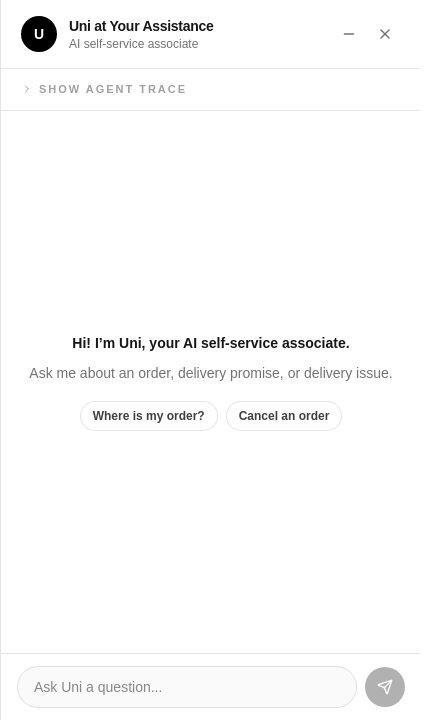
Test case: AssistantPanel agent trace › is collapsed by default and expands only when toggled
Expected: the text "Checking order and customer data" is not shown
What coordinates should you click on to do the following:
click the button "Show agent trace"
I would click on:
 (104, 89)
Its box is [21, 81, 187, 98].
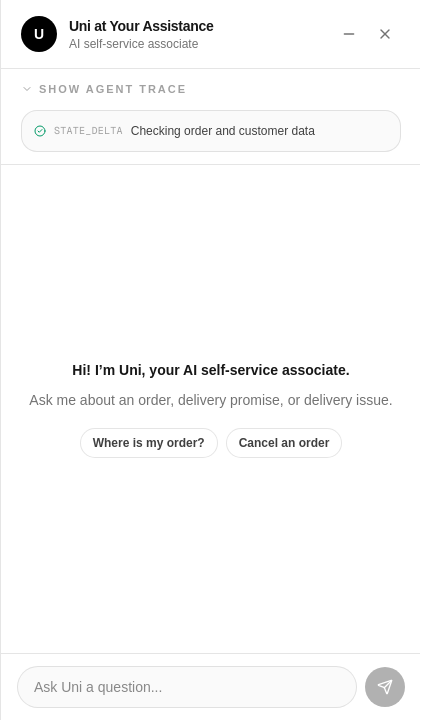
Result: the text "Checking order and customer data" is shown at [131, 122, 315, 138]
